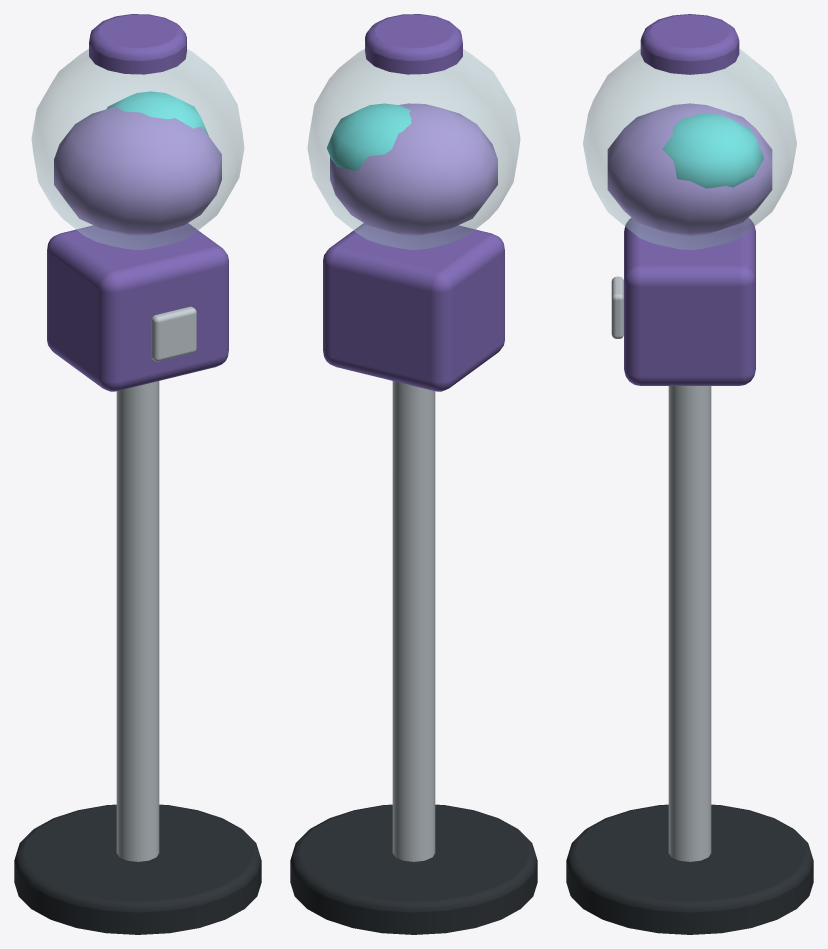
The model's file is SM_GumballMachine.glb.
3 views of the same model, side by side, from view 1: azimuth 30°, elevation 25°; view 2: azimuth 150°, elevation 25°; view 3: azimuth 270°, elevation 25° (orthographic).
Visible parts, largest first — view 1: SM_GumballMachine, Globe; view 2: SM_GumballMachine, Globe; view 3: SM_GumballMachine, Globe.
Boxes of the visible parts, x1=… form: SM_GumballMachine: x1=14, y1=14, x2=261, y2=934; Globe: x1=31, y1=49, x2=244, y2=249; SM_GumballMachine: x1=290, y1=14, x2=537, y2=934; Globe: x1=307, y1=49, x2=520, y2=249; SM_GumballMachine: x1=566, y1=14, x2=813, y2=934; Globe: x1=583, y1=49, x2=796, y2=249.
Bounding box in the file's own units: 0.3 × 1.14 × 0.3.
Materials: 3 (3 with a texture image).
